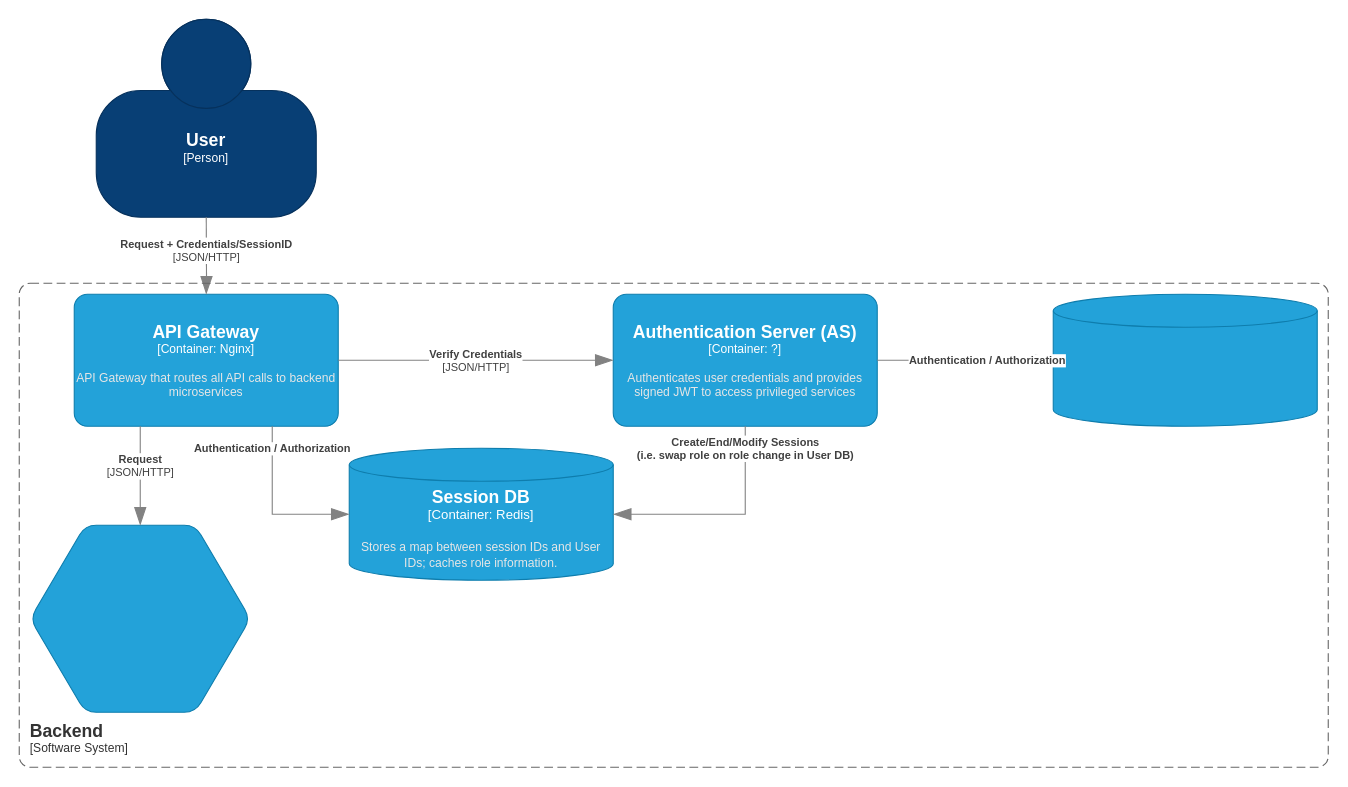
Some shapes in this 1348 by 787 pixel diagram are drawn without their labels. Each missing label, with the centre of its shape:
"Backend Service [Container: Any]" belongs at (x=139, y=618).
"User DB [Container: MySQL] Stores credentials/roles" belongs at (x=1184, y=359).
